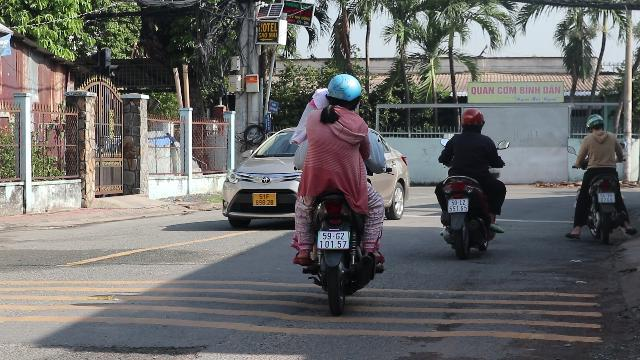helmet: (323, 72, 362, 112), (460, 108, 484, 132), (586, 114, 606, 132)
licenseplate: (317, 230, 348, 248), (448, 198, 468, 212), (598, 192, 614, 202)
motorcyclist: (286, 71, 400, 307), (432, 107, 508, 257), (569, 113, 633, 241)
